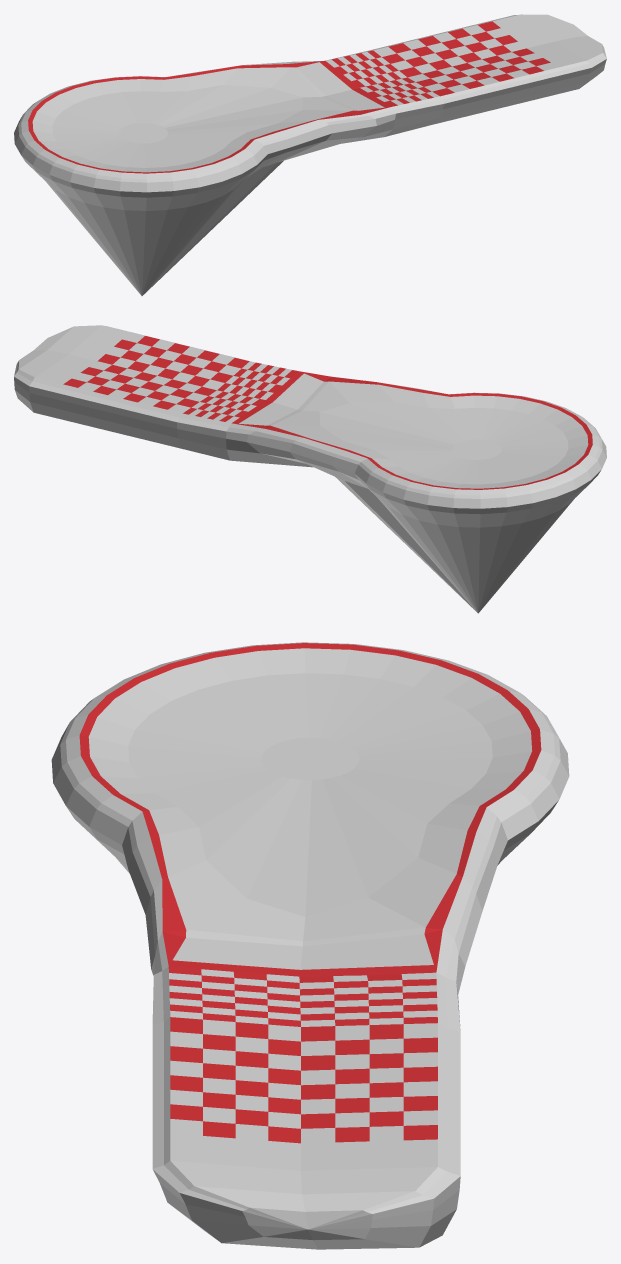
File: arrival.fbx
3 views of the same model, one above another, from view 1: azimuth 30°, elevation 25°; view 2: azimuth 150°, elevation 25°; view 3: azimuth 270°, elevation 25° (orthographic). The views are drawn at different scales.
Parts seen in each view (by area): view 1: arrival; view 2: arrival; view 3: arrival.
Boxes of the visible parts, x1,y1,x2,y2 form: arrival: (14, 14, 606, 295); arrival: (14, 325, 606, 613); arrival: (51, 642, 569, 1249).
Bounding box in the file's own units: 3191 × 940 × 1281.
